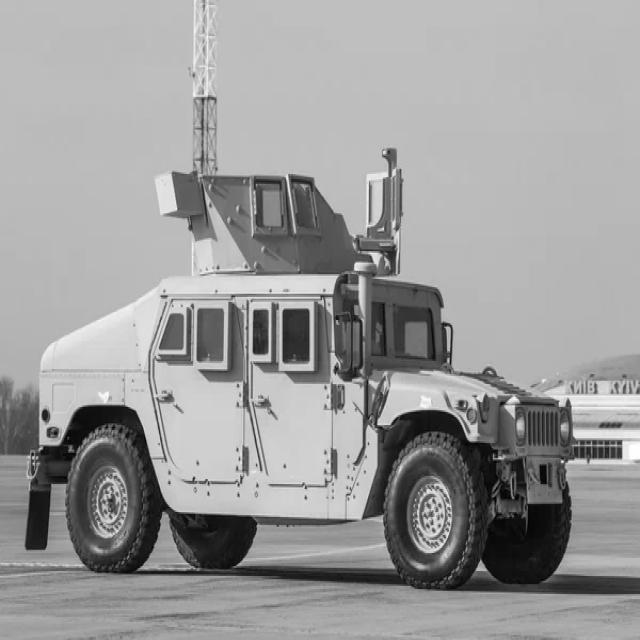Car: (26, 148, 574, 590)
